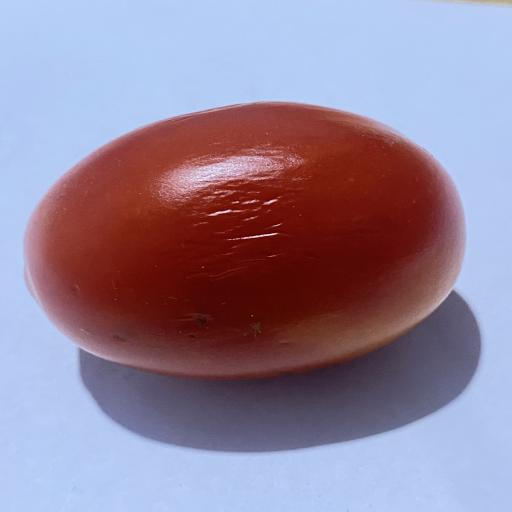spoiled: (25, 102, 465, 378)
